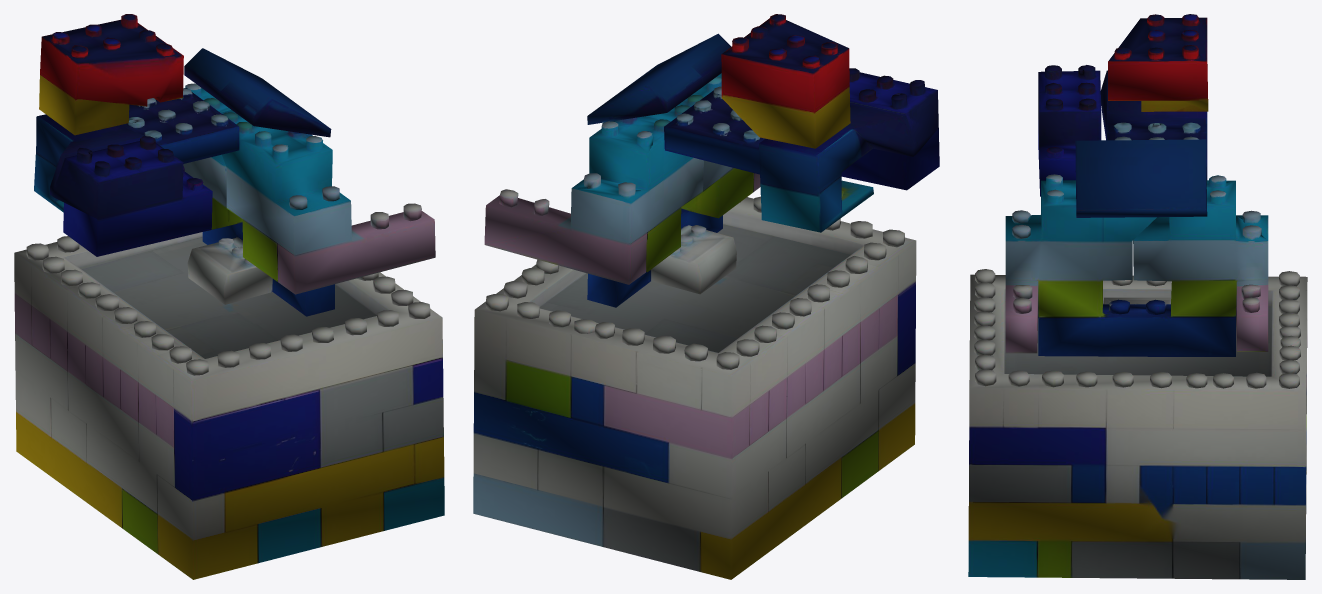
Rendered from object_45_asset_0411352f.glb.
The picture shows the model from 3 angles, left to right: view 1: azimuth 30°, elevation 25°; view 2: azimuth 150°, elevation 25°; view 3: azimuth 270°, elevation 25°; orthographic projection. The views are drawn at different scales.
Visible parts, largest first — view 1: tripo_node_bd0cc099-ddab-4705-a886-f3159758493b; view 2: tripo_node_bd0cc099-ddab-4705-a886-f3159758493b; view 3: tripo_node_bd0cc099-ddab-4705-a886-f3159758493b.
Part boxes in pixels (box(x1,y1,x2,y2)): tripo_node_bd0cc099-ddab-4705-a886-f3159758493b: box(14, 14, 444, 579); tripo_node_bd0cc099-ddab-4705-a886-f3159758493b: box(473, 14, 939, 579); tripo_node_bd0cc099-ddab-4705-a886-f3159758493b: box(968, 14, 1307, 579).
Bounding box in the file's own units: 0.7441 × 0.998 × 0.6934.
Materials: 1 (1 with a texture image).
